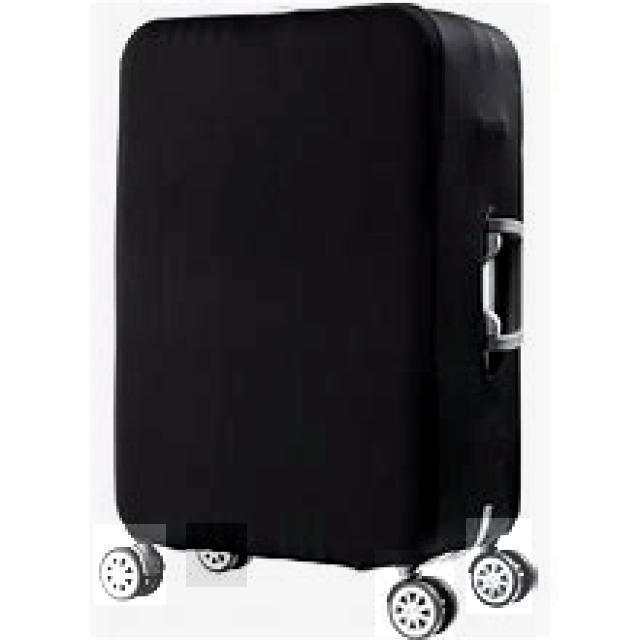Suitcase: (94, 8, 542, 636)
